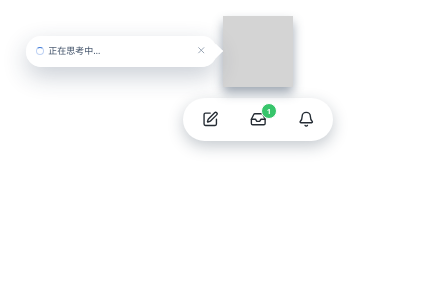
Test: 018 Inbox handoff integration › puts a busy Inbox handoff on the PetBubble badge shelf
Click the button named "Inbox": click(258, 120) [234,98,282,141]
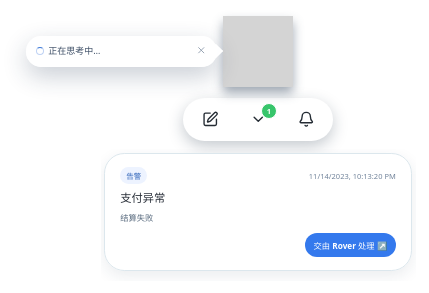
Click the button "交由 Rover 处理 ↗": click(350, 245) [305,233,396,257]
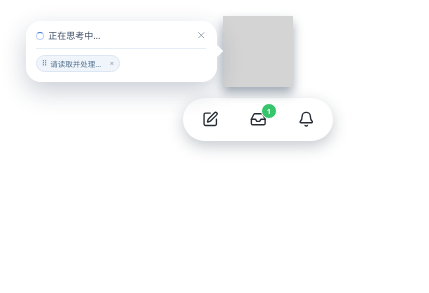
Expected: the element named "接续队列" shows "支付异常", [50,58,107,69]
